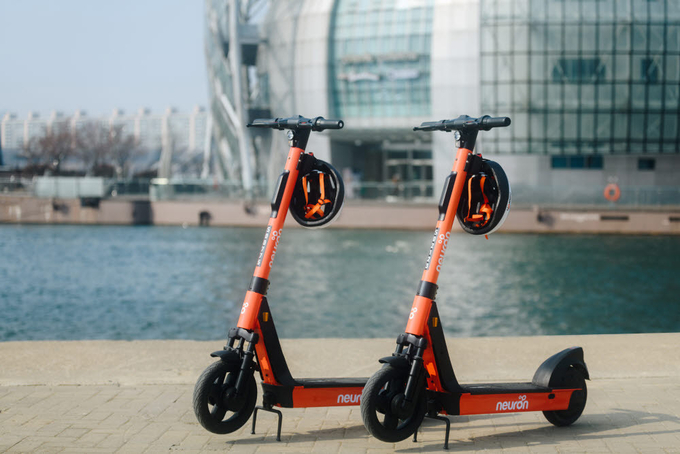scooter: (364, 117, 591, 443), (198, 113, 402, 430)
